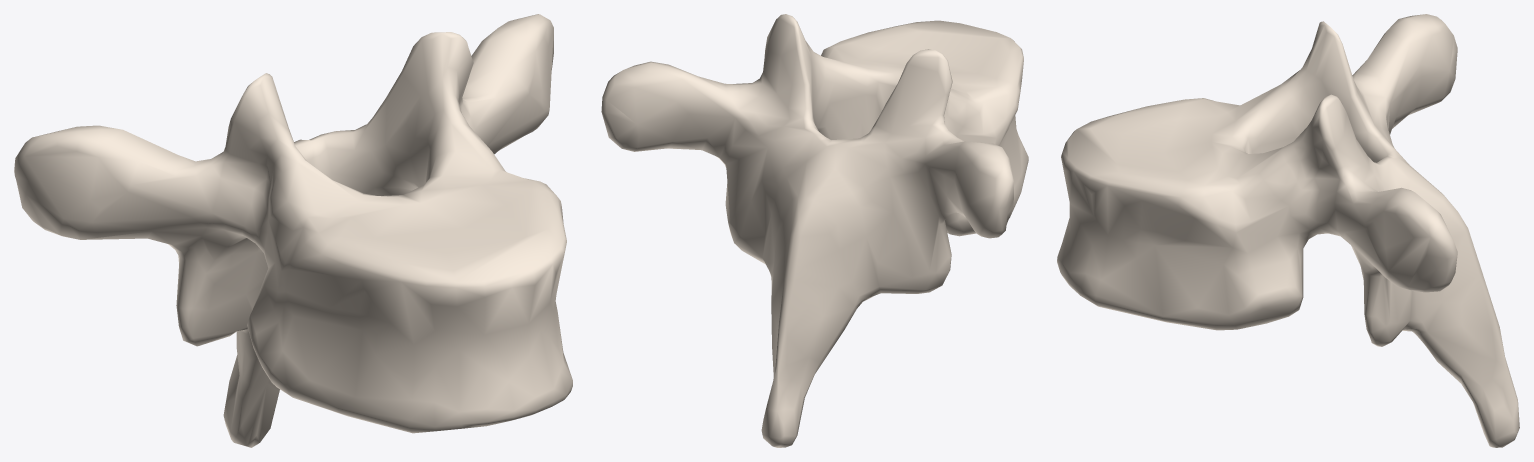
The picture shows the model from 3 angles, left to right: view 1: azimuth 30°, elevation 25°; view 2: azimuth 150°, elevation 25°; view 3: azimuth 270°, elevation 25°; orthographic projection. The views are drawn at different scales.
Visible parts, largest first — view 1: Thoracic vertebrae (T6); view 2: Thoracic vertebrae (T6); view 3: Thoracic vertebrae (T6).
Part boxes in pixels (bbox=[...]): Thoracic vertebrae (T6): bbox=[14, 14, 572, 447]; Thoracic vertebrae (T6): bbox=[601, 14, 1028, 447]; Thoracic vertebrae (T6): bbox=[1057, 14, 1519, 447].
Bounding box in the file's own units: 0.0724 × 0.0608 × 0.0659.
